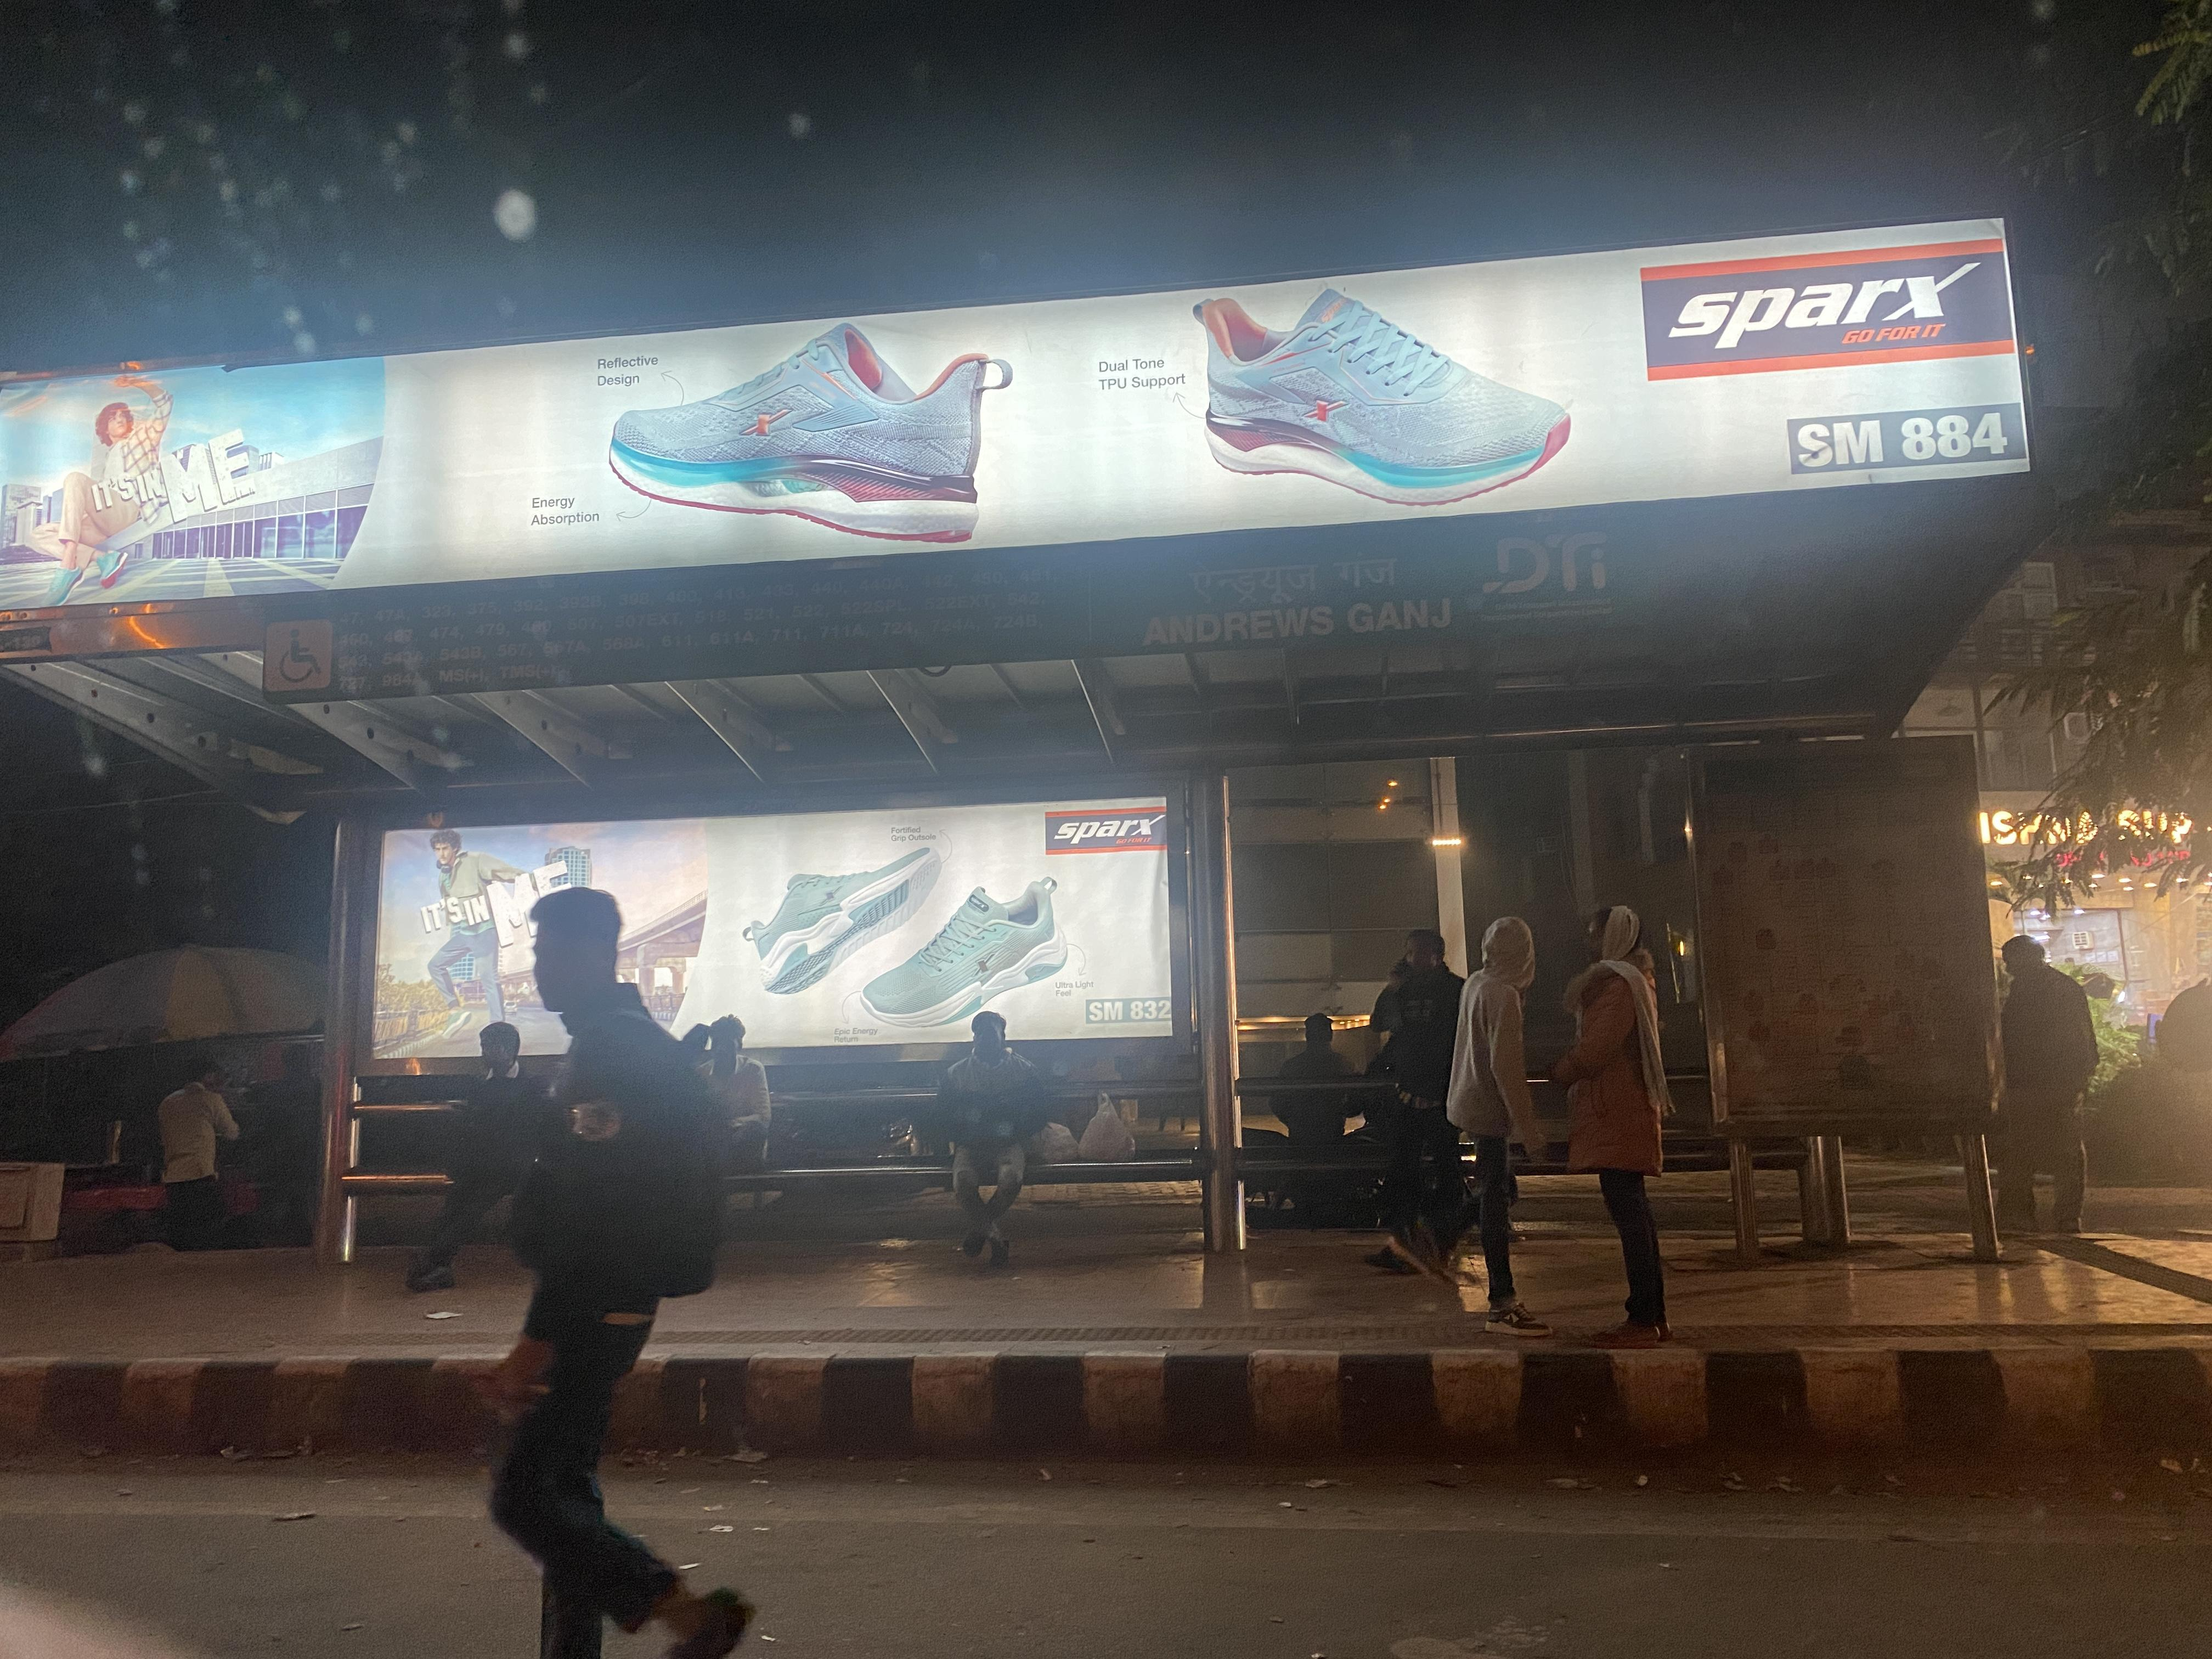Bus-stop-board: (5, 220, 2047, 697)
